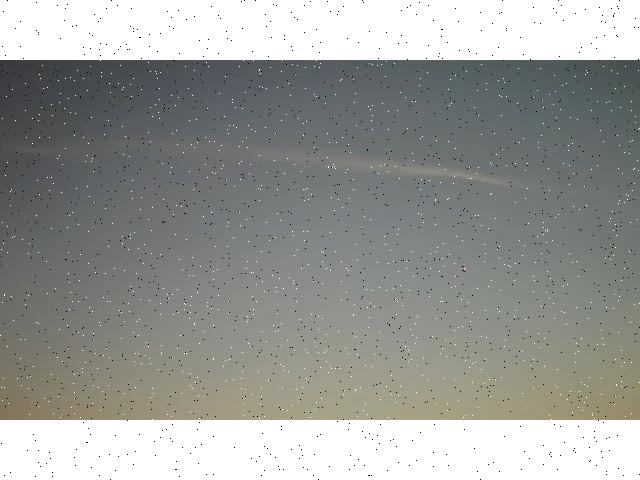Anti-Drone: (458, 260, 478, 278)
